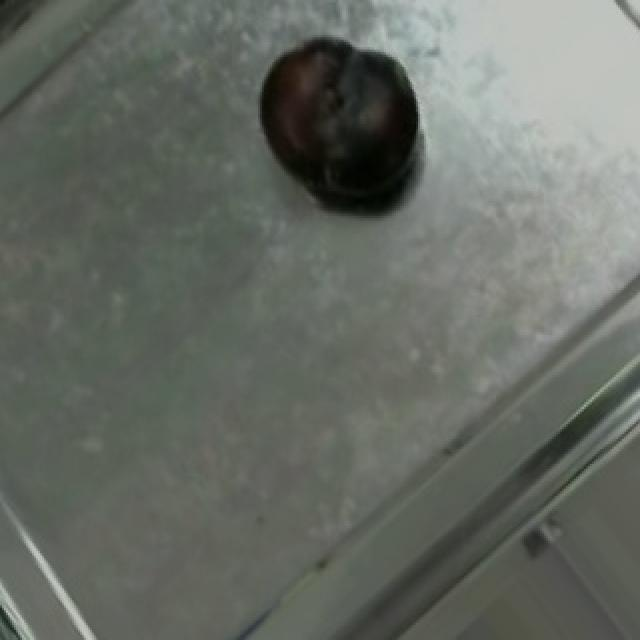Fruit: (232, 22, 450, 218)
